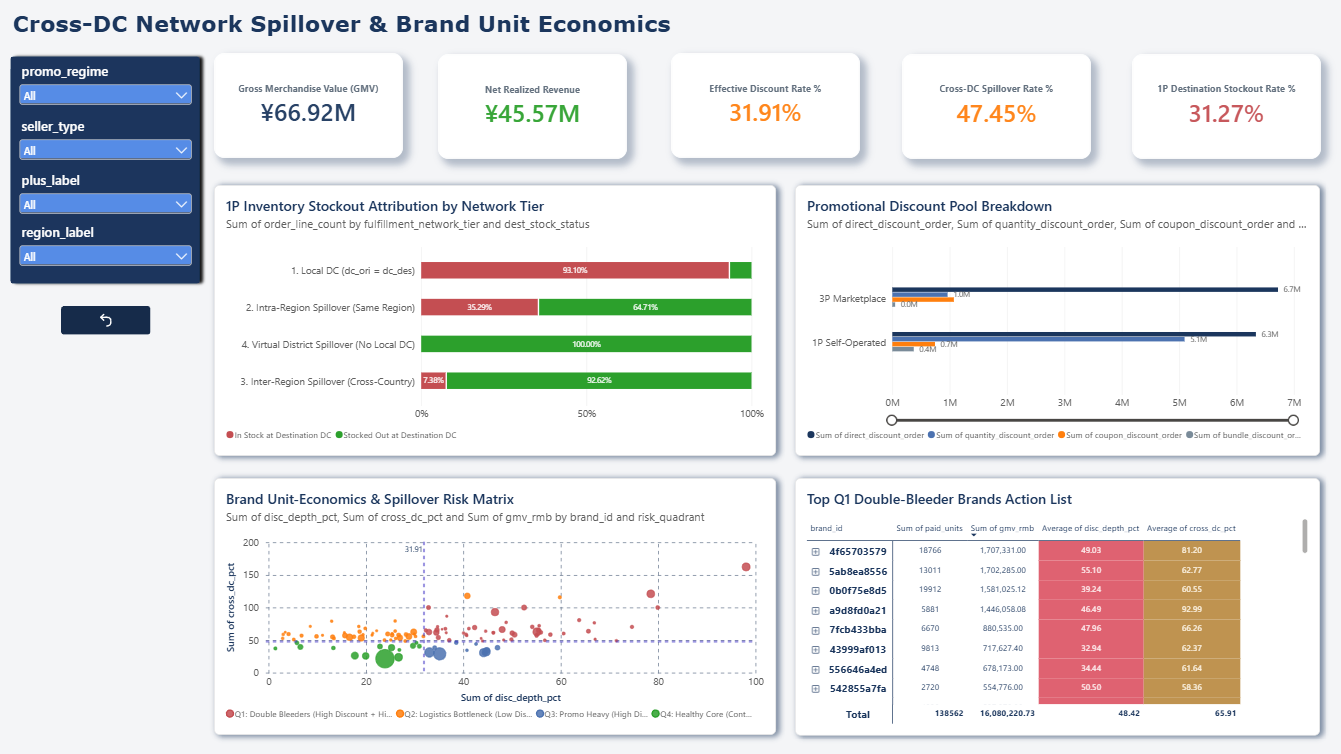

The page's visual inventory and layout, read from the dashboard file:
{"tool":"powerbi","page":{"name":"2. Brand Risk & Spillover","canvas":[1920,1080],"ordinal":1},"visuals":[{"type":"textbox","box":[6.7,15,965,56.7],"z":0},{"type":"shape","box":[7.1,72.9,288.6,342.8],"z":0,"group":"g1"},{"type":"pivotTable","title":"Top Q1 Double-Bleeder Brands Action List","fields":{"Rows":["dim_brand_risk.brand_id","dim_brand_risk.seller_type"],"Values":["Sum(dim_brand_risk.paid_units)","Sum(dim_brand_risk.gmv_rmb)","Avg(dim_brand_risk.disc_depth_pct)","Avg(dim_brand_risk.cross_dc_pct)"]},"box":[1137.5,685,750,367.5],"z":1000},{"type":"slicer","fields":{"Values":["dim_date.promo_regime"]},"box":[23.5,90,255.7,77.6],"z":2000,"group":"g2"},{"type":"hundredPercentStackedBarChart","title":"1P Inventory Stockout Attribution by Network Tier","fields":{"Category":["fact_1p_stockout_audit.fulfillment_network_tier"],"Series":["fact_1p_stockout_audit.dest_stock_status"],"Y":["Sum(fact_1p_stockout_audit.order_line_count)"]},"box":[307.1,265.7,802.9,387.1],"z":2000},{"type":"slicer","fields":{"Values":["fact_orders_pbi.seller_type"]},"box":[23.5,168.5,255.7,77.6],"z":3000,"group":"g2"},{"type":"clusteredBarChart","title":"Promotional Discount Pool Breakdown","fields":{"Category":["fact_orders_pbi.seller_type"],"Y":["Sum(fact_orders_pbi.direct_discount_order)","Sum(fact_orders_pbi.quantity_discount_order)","Sum(fact_orders_pbi.coupon_discount_order)","Sum(fact_orders_pbi.bundle_discount_order)"]},"box":[1137.1,265.7,750,387.1],"z":3000},{"type":"slicer","fields":{"Values":["dim_customers_pbi.plus_label"]},"box":[23.5,245.2,255.7,77.6],"z":4000,"group":"g2"},{"type":"scatterChart","title":"Brand Unit-Economics & Spillover Risk Matrix","fields":{"Category":["dim_brand_risk.brand_id"],"Series":["dim_brand_risk.risk_quadrant"],"Size":["Sum(dim_brand_risk.gmv_rmb)"],"X":["Sum(dim_brand_risk.disc_depth_pct)"],"Y":["Sum(dim_brand_risk.cross_dc_pct)"]},"box":[307.1,684.3,802.9,367.1],"z":4000},{"type":"cardVisual","fields":{"Data":["_Measures.Gross Merchandise Value (GMV)"]},"box":[306.6,77.6,270,150],"z":5000},{"type":"slicer","fields":{"Values":["dim_network.region_label"]},"box":[23.5,320.3,255.7,77.6],"z":5000,"group":"g2"},{"type":"cardVisual","fields":{"Data":["_Measures.Net Realized Revenue"]},"box":[627.4,78.3,270,150],"z":6000},{"type":"cardVisual","fields":{"Data":["_Measures.Effective Discount Rate %"]},"box":[960,76.9,270,150],"z":7000},{"type":"cardVisual","fields":{"Data":["_Measures.Cross-DC Spillover Rate %"]},"box":[1289.8,78.3,270,150],"z":8000},{"type":"cardVisual","fields":{"Data":["_Measures.1P Destination Stockout Rate %"]},"box":[1618.2,78.3,270,150],"z":9000},{"type":"group","id":"g1","title":"Group 2","box":[7.1,72.9,288.6,407.1],"z":10000},{"type":"actionButton","title":"Clear Filters","box":[87.7,439.2,127.8,40.9],"z":15000,"group":"g2"},{"type":"group","id":"g2","title":"Group 1","box":[23.5,90,255.7,390.1],"z":15001,"group":"g1"}]}

Visuals, with their boxes in screenshot pixels (x1, y1, x2, y2), scaled from the page's 1920x1080 canvas onto the 1341x754 screenshot:
textbox: left=5, top=10, right=679, bottom=50
shape: left=5, top=51, right=207, bottom=290
"Top Q1 Double-Bleeder Brands Action List" pivotTable: left=794, top=478, right=1318, bottom=735
slicer - dim_date.promo_regime: left=16, top=63, right=195, bottom=117
"1P Inventory Stockout Attribution by Network Tier" hundredPercentStackedBarChart: left=214, top=185, right=775, bottom=456
slicer - fact_orders_pbi.seller_type: left=16, top=118, right=195, bottom=172
"Promotional Discount Pool Breakdown" clusteredBarChart: left=794, top=185, right=1318, bottom=456
slicer - dim_customers_pbi.plus_label: left=16, top=171, right=195, bottom=225
"Brand Unit-Economics & Spillover Risk Matrix" scatterChart: left=214, top=478, right=775, bottom=734
cardVisual - _Measures.Gross Merchandise Value (GMV): left=214, top=54, right=403, bottom=159
slicer - dim_network.region_label: left=16, top=224, right=195, bottom=278
cardVisual - _Measures.Net Realized Revenue: left=438, top=55, right=627, bottom=159
cardVisual - _Measures.Effective Discount Rate %: left=670, top=54, right=859, bottom=158
cardVisual - _Measures.Cross-DC Spillover Rate %: left=901, top=55, right=1089, bottom=159
cardVisual - _Measures.1P Destination Stockout Rate %: left=1130, top=55, right=1319, bottom=159
"Group 2" group: left=5, top=51, right=207, bottom=335
"Clear Filters" actionButton: left=61, top=307, right=151, bottom=335
"Group 1" group: left=16, top=63, right=195, bottom=335
